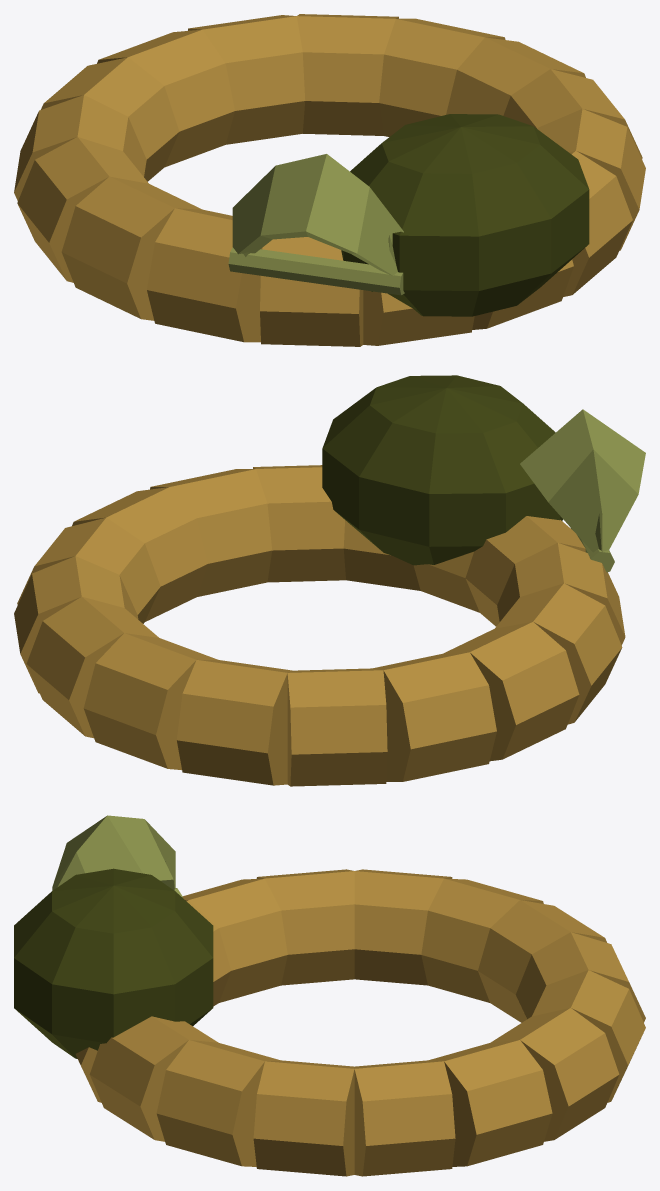
The picture shows the model from 3 angles, top to bottom: view 1: azimuth 30°, elevation 25°; view 2: azimuth 150°, elevation 25°; view 3: azimuth 270°, elevation 25°; orthographic projection. The views are drawn at different scales.
Parts seen in each view (by area): view 1: family-ring; view 2: family-ring; view 3: family-ring.
Part boxes in pixels (left/top/right/bottom): family-ring: left=14, top=14, right=645, bottom=346; family-ring: left=14, top=375, right=645, bottom=786; family-ring: left=14, top=815, right=645, bottom=1176.
Size of the model in its own units: 0.8467 by 0.3188 by 0.9181.
